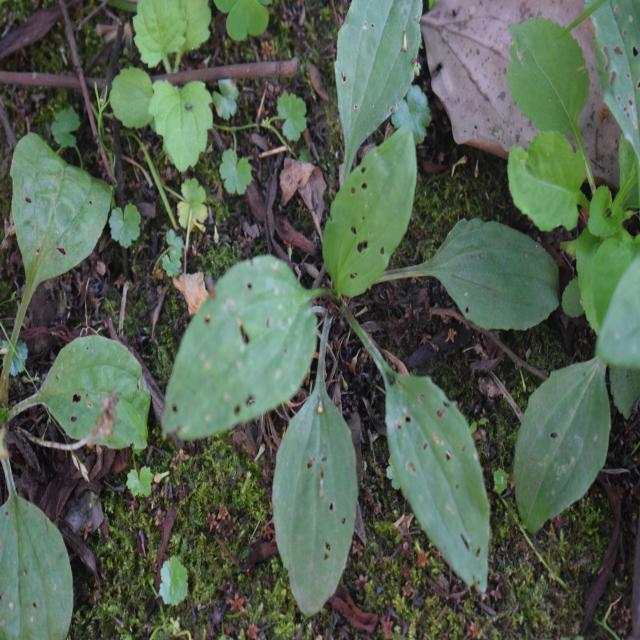plantain: (200, 18, 515, 592)
